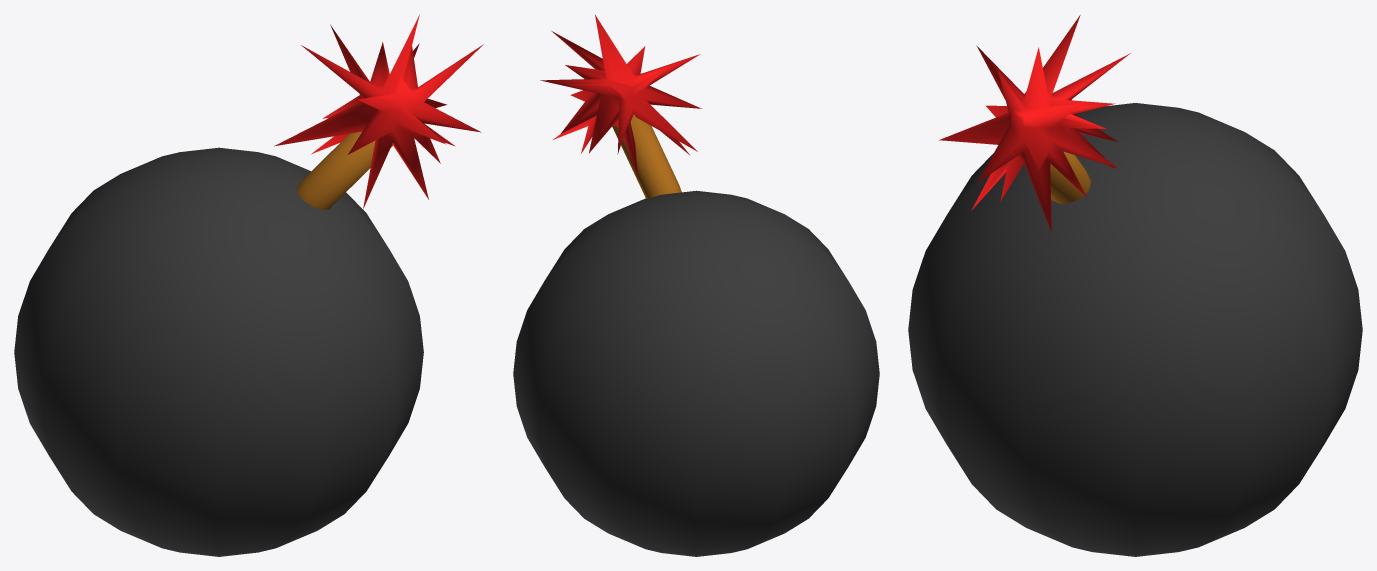
The model's file is bomb_2.fbx.
3 views of the same model, side by side, from view 1: azimuth 30°, elevation 25°; view 2: azimuth 150°, elevation 25°; view 3: azimuth 270°, elevation 25° (orthographic). The views are drawn at different scales.
Parts seen in each view (by area): view 1: Sphere, Cube, Sphere.001; view 2: Sphere, Cube, Sphere.001; view 3: Sphere, Cube, Sphere.001.
Boxes of the visible parts, x1,y1,x2,y2 form: Sphere: (14, 147, 423, 556); Cube: (274, 14, 483, 209); Sphere.001: (297, 131, 392, 209); Sphere: (513, 190, 879, 556); Cube: (540, 15, 701, 178); Sphere.001: (612, 114, 681, 198); Sphere: (908, 103, 1362, 556); Cube: (939, 15, 1130, 231); Sphere.001: (1050, 151, 1090, 203).
Bounding box in the file's own units: 389 × 491 × 352.
